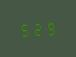five: (18, 21, 30, 37)
nine: (45, 19, 57, 35)
two: (32, 20, 44, 36)
